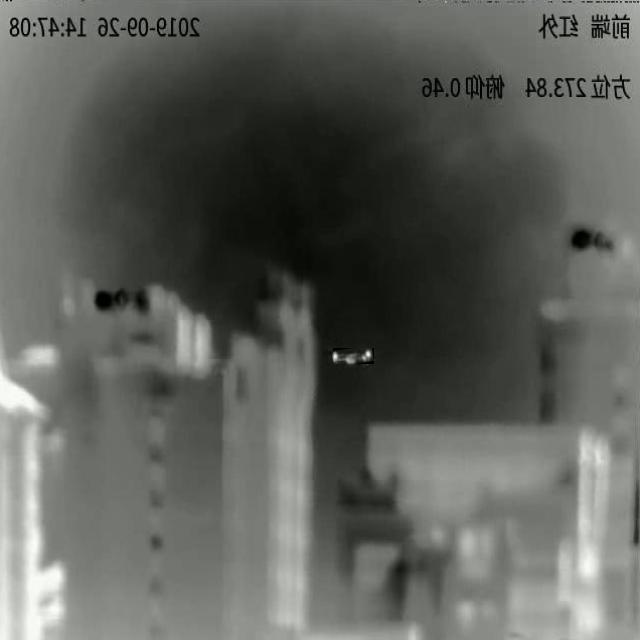drone: (333, 350, 373, 364)
